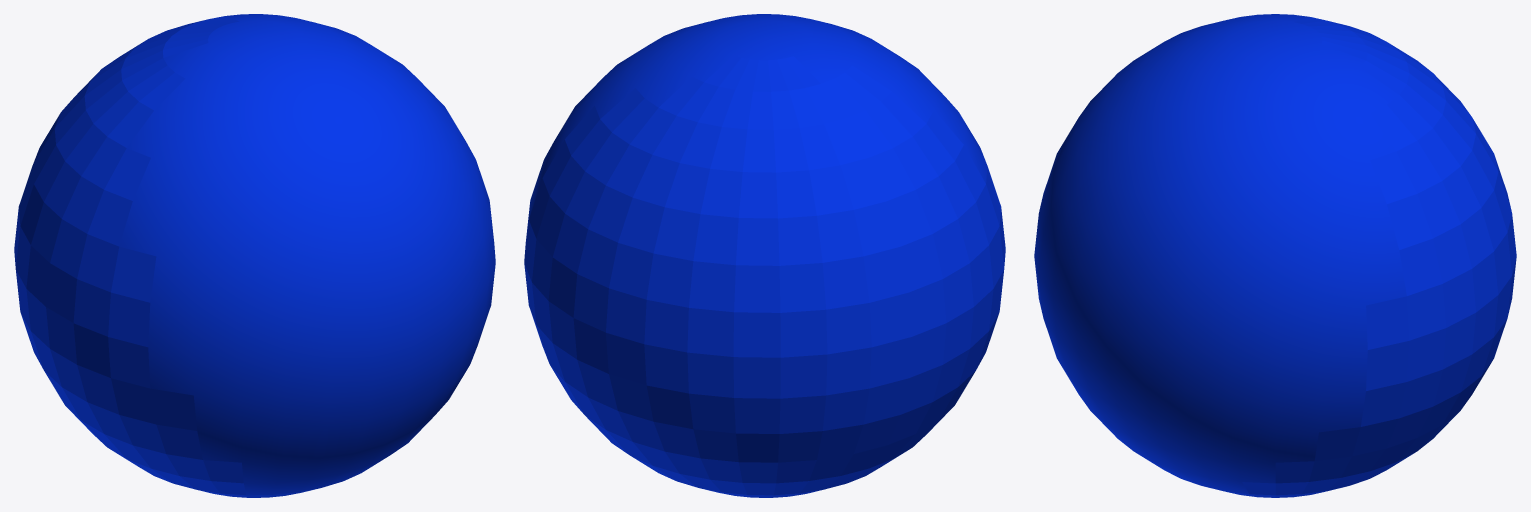
File: ball.glb
3 views of the same model, side by side, from view 1: azimuth 30°, elevation 25°; view 2: azimuth 150°, elevation 25°; view 3: azimuth 270°, elevation 25° (orthographic).
Visible parts, largest first — view 1: 球; view 2: 球; view 3: 球.
Boxes of the visible parts, left/top/right/bottom form: 球: left=14, top=14, right=495, bottom=497; 球: left=524, top=14, right=1005, bottom=497; 球: left=1034, top=14, right=1516, bottom=497.
Size of the model in its own units: 1.98 by 1.98 by 1.98.
